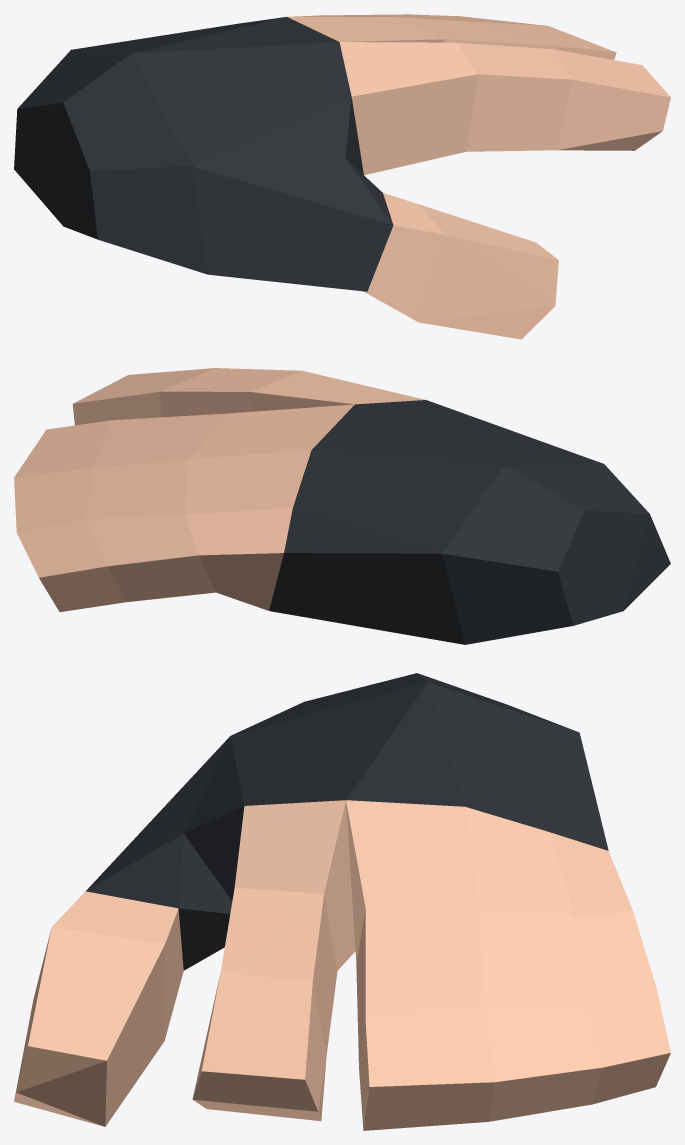
The model's file is Chr_HandLeft_Male_07_Static.fbx.
The picture shows the model from 3 angles, top to bottom: view 1: azimuth 30°, elevation 25°; view 2: azimuth 150°, elevation 25°; view 3: azimuth 270°, elevation 25°; orthographic projection. The views are drawn at different scales.
Parts seen in each view (by area): view 1: Chr_HandLeft_Male_07_Static; view 2: Chr_HandLeft_Male_07_Static; view 3: Chr_HandLeft_Male_07_Static.
Part boxes in pixels (x1,y1,x2,y2): Chr_HandLeft_Male_07_Static: (14, 14, 670, 339); Chr_HandLeft_Male_07_Static: (14, 368, 670, 644); Chr_HandLeft_Male_07_Static: (14, 673, 670, 1130).
Size of the model in its own units: 0.2335 by 0.0952 by 0.188.
